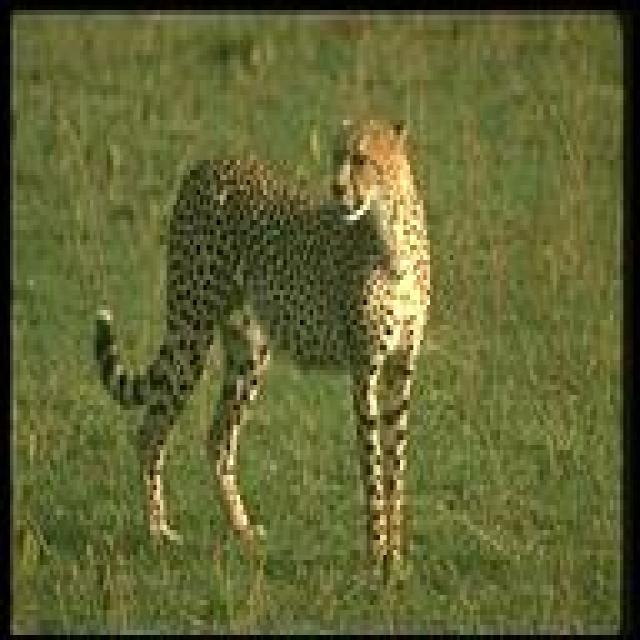Leopard: (99, 119, 431, 566)
